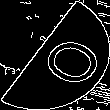O_NW: (15, 23, 95, 87)
